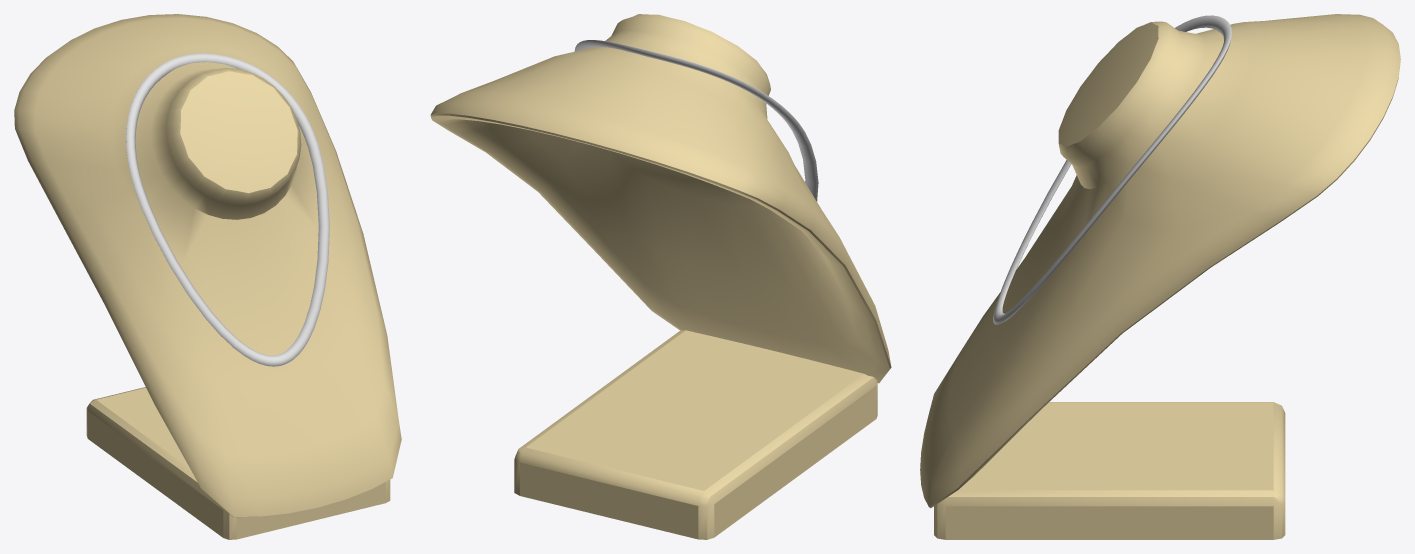
File: Necklace_12.fbx
3 renders of one model, left to right at view 1: azimuth 30°, elevation 25°; view 2: azimuth 150°, elevation 25°; view 3: azimuth 270°, elevation 25°, orthographic. The views are drawn at different scales.
Visible parts, largest first — view 1: SM_Stand_Necklace_16, SM_Necklace_16; view 2: SM_Stand_Necklace_16, SM_Necklace_16; view 3: SM_Stand_Necklace_16, SM_Necklace_16.
Boxes of the visible parts, box(x1,y1,x2,y2) form: SM_Stand_Necklace_16: box(14, 14, 401, 539); SM_Necklace_16: box(126, 53, 329, 366); SM_Stand_Necklace_16: box(430, 14, 891, 539); SM_Necklace_16: box(574, 40, 818, 201); SM_Stand_Necklace_16: box(920, 14, 1400, 539); SM_Necklace_16: box(993, 15, 1231, 324).
Size of the model in its own units: 22.51 by 29.29 by 27.78.
